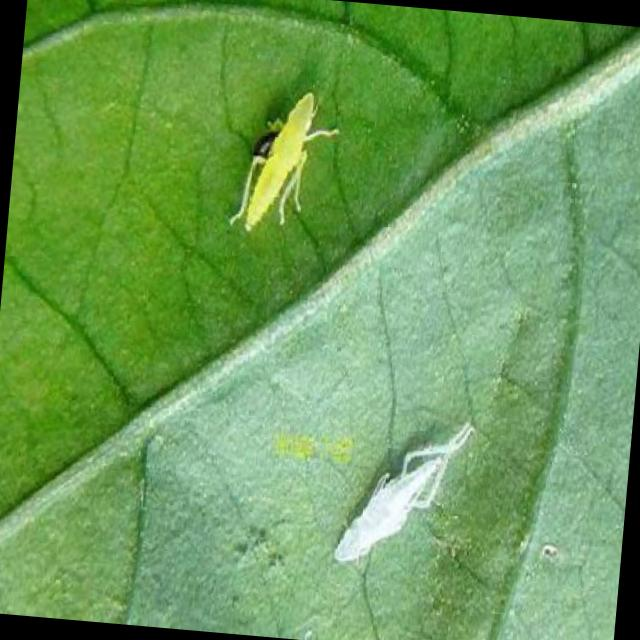green-leafhopper: (227, 86, 341, 238)
